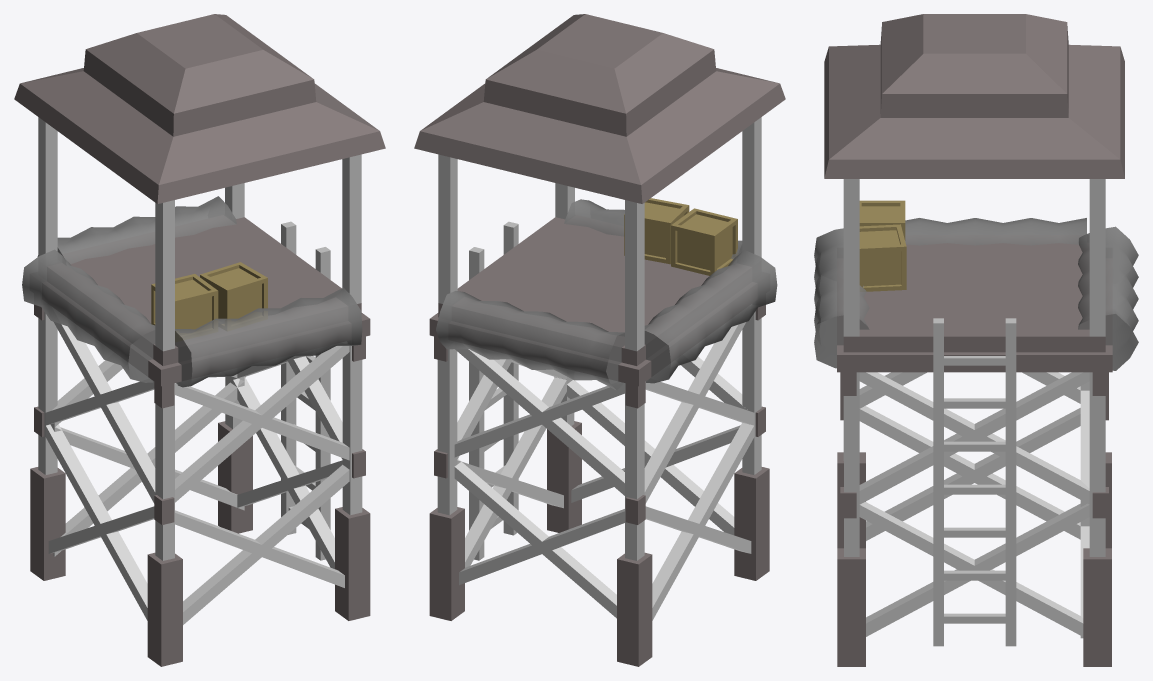
Rendered from Prop_GuardTower_Mod_01 (1).fbx.
3 renders of one model, left to right at view 1: azimuth 30°, elevation 25°; view 2: azimuth 150°, elevation 25°; view 3: azimuth 270°, elevation 25°, orthographic. The views are drawn at different scales.
Parts seen in each view (by area): view 1: Supports, Roof, Floor, BarbedWire, Ladder, Crate, Crate1; view 2: Supports, Roof, Floor, BarbedWire, Crate1, Ladder, Crate; view 3: Roof, Supports, Floor, BarbedWire, Ladder, Crate, Crate1.
Boxes of the visible parts, bbox=[...] form: Supports: bbox=[30, 304, 370, 666]; Roof: bbox=[14, 14, 385, 351]; Floor: bbox=[42, 215, 370, 386]; BarbedWire: bbox=[22, 196, 362, 387]; Ladder: bbox=[281, 221, 330, 560]; Crate: bbox=[200, 262, 267, 330]; Crate1: bbox=[151, 274, 218, 341]; Supports: bbox=[429, 304, 769, 666]; Roof: bbox=[414, 14, 785, 351]; Floor: bbox=[429, 215, 757, 386]; BarbedWire: bbox=[436, 199, 777, 390]; Crate1: bbox=[671, 208, 737, 275]; Ladder: bbox=[469, 221, 518, 560]; Crate: bbox=[624, 198, 689, 264]; Roof: bbox=[824, 14, 1124, 336]; Supports: bbox=[837, 372, 1111, 666]; Floor: bbox=[837, 235, 1112, 372]; BarbedWire: bbox=[814, 218, 1138, 370]; Ladder: bbox=[933, 318, 1016, 646]; Crate: bbox=[859, 224, 906, 291]; Crate1: bbox=[859, 200, 905, 240].
Size of the model in its own units: 13.52 by 29.9 by 15.19.
